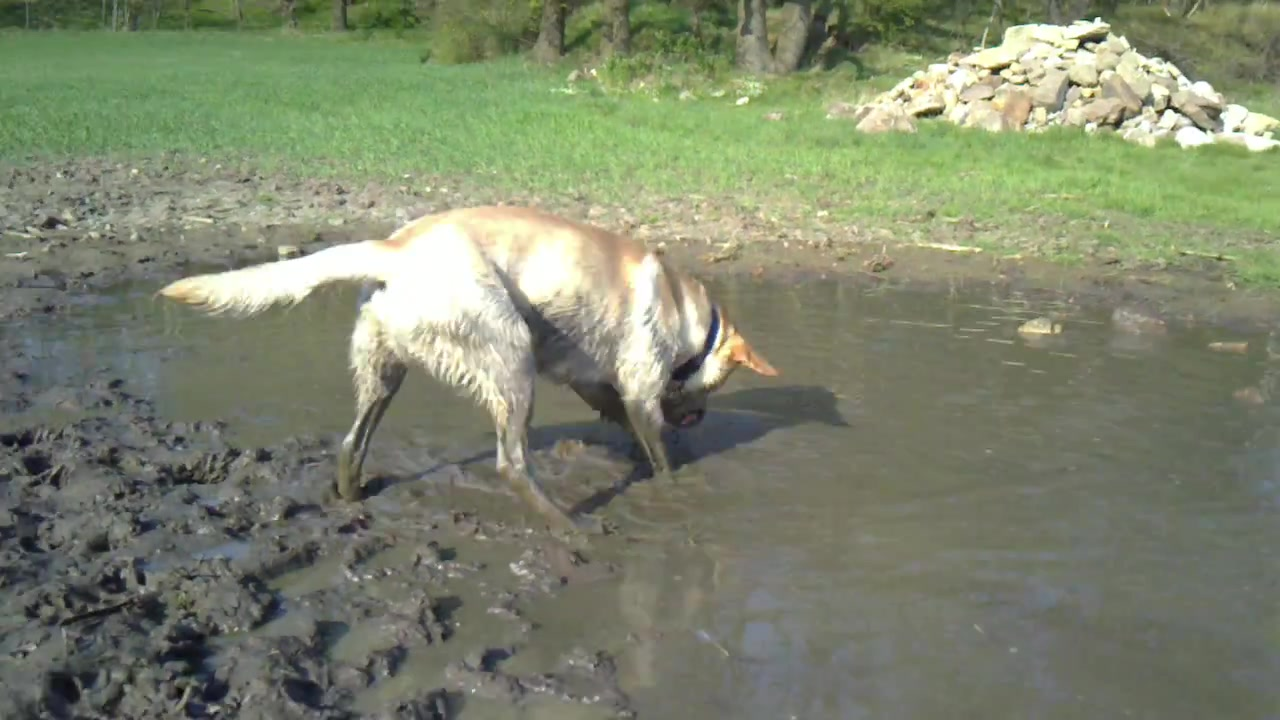dog: (157, 203, 780, 528)
